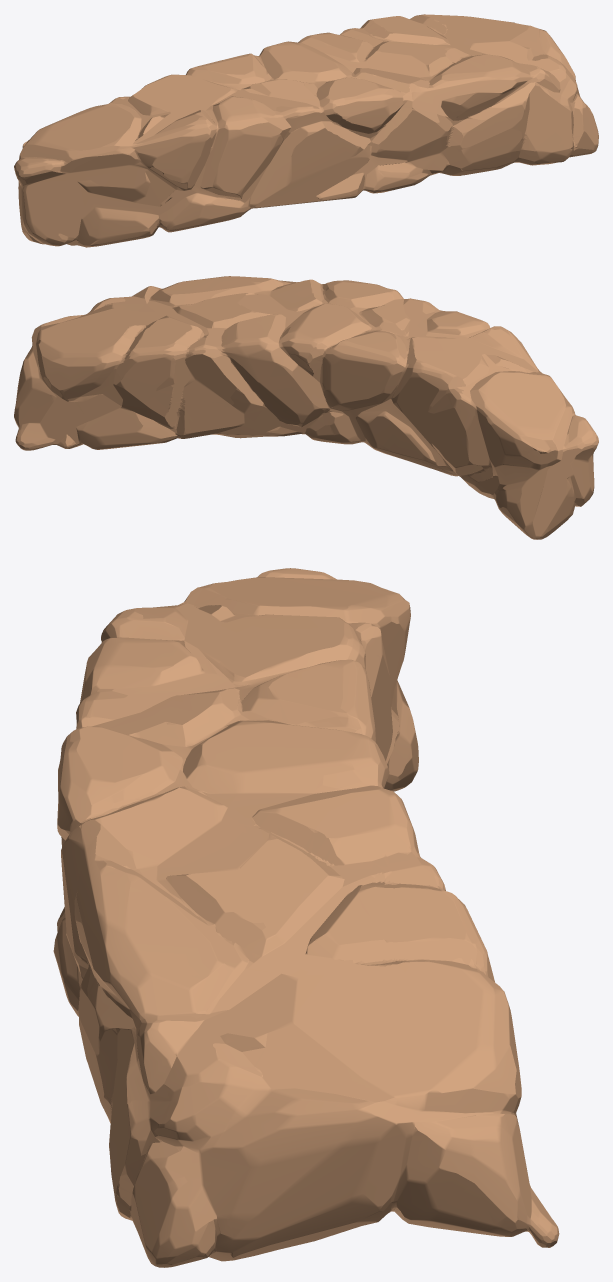
The picture shows the model from 3 angles, top to bottom: view 1: azimuth 30°, elevation 25°; view 2: azimuth 150°, elevation 25°; view 3: azimuth 270°, elevation 25°; orthographic projection. The views are drawn at different scales.
Parts seen in each view (by area): view 1: Mesh_82_LOD0; view 2: Mesh_82_LOD0; view 3: Mesh_82_LOD0.
Boxes of the visible parts, box(x1,y1,x2,y2) form: Mesh_82_LOD0: box(14, 14, 598, 247); Mesh_82_LOD0: box(14, 276, 598, 539); Mesh_82_LOD0: box(53, 568, 559, 1267).
Size of what is drawn, in the model's own units: 6320 by 1548 by 2536.
